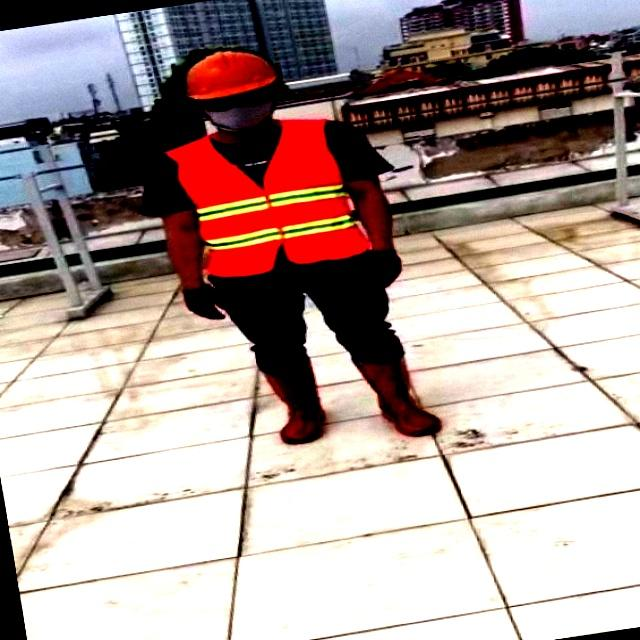helmet: (175, 44, 290, 96)
safety_vest: (173, 116, 376, 288)
